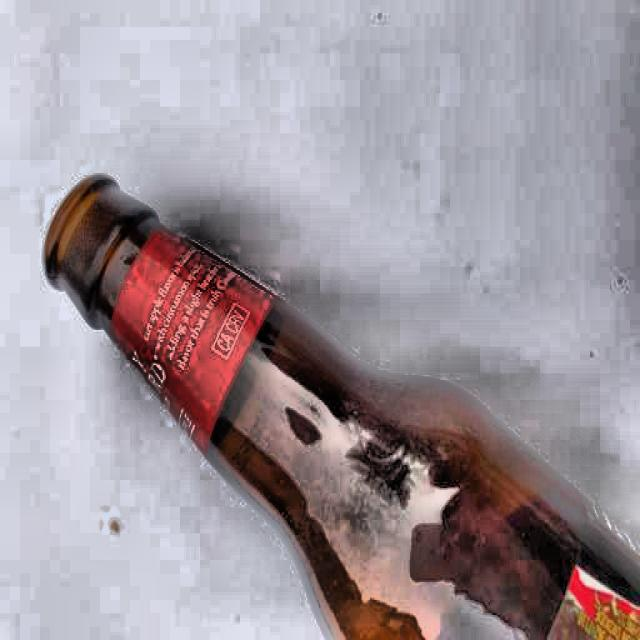glass: (35, 168, 640, 640)
